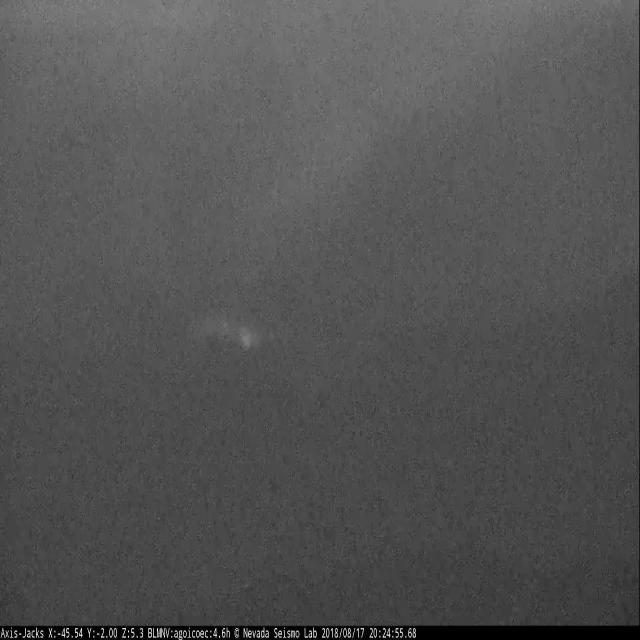smoke: (186, 306, 266, 354)
